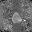people: (12, 11, 22, 24)
